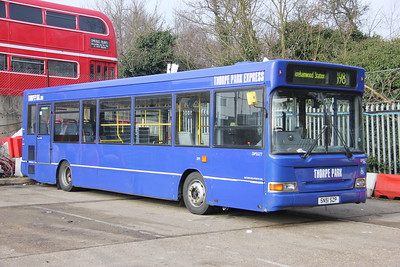bus: (20, 59, 367, 215)
